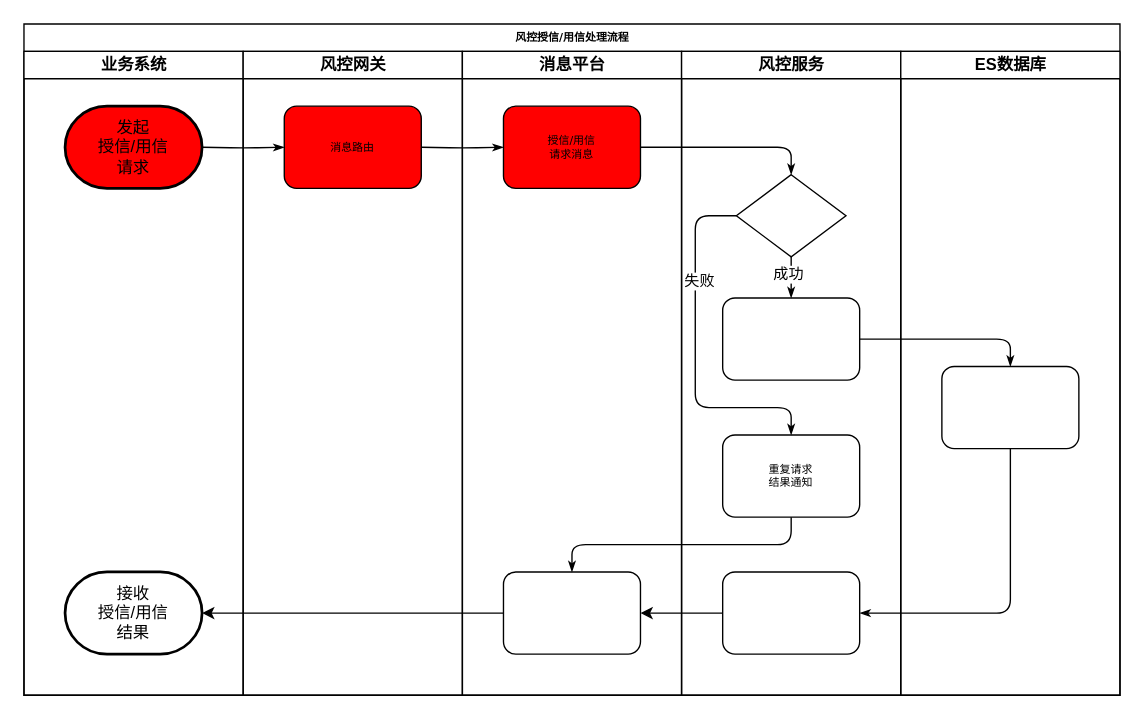
Some shapes in this 1144 by 719 pixel diagram are drawn without their labels. Each missing label, with the centre of its shape:
"保存结果" belongs at point (1010, 407).
"原始请求 结果通知" belongs at point (790, 612).
"处理 授信/用信" belongs at point (790, 338).
"授信结果 消息" belongs at point (571, 612).
"请求加锁" belongs at point (790, 215).
